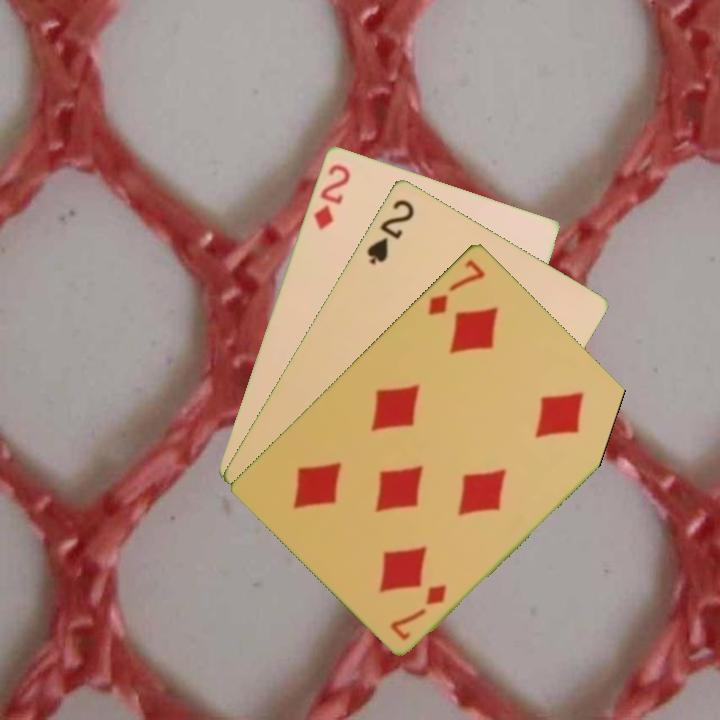2d: (310, 160, 353, 232)
2s: (363, 195, 417, 267)
7d: (424, 255, 488, 318), (386, 580, 450, 643)
